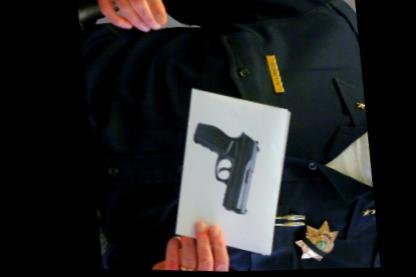pistol: (180, 113, 270, 215)
